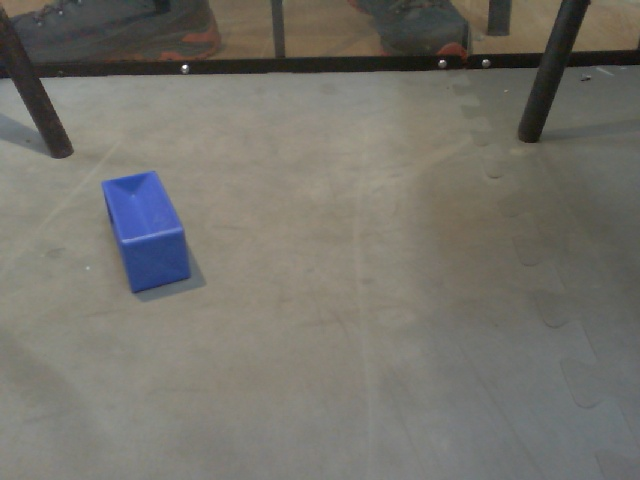BlueSample: (97, 170, 201, 294)
